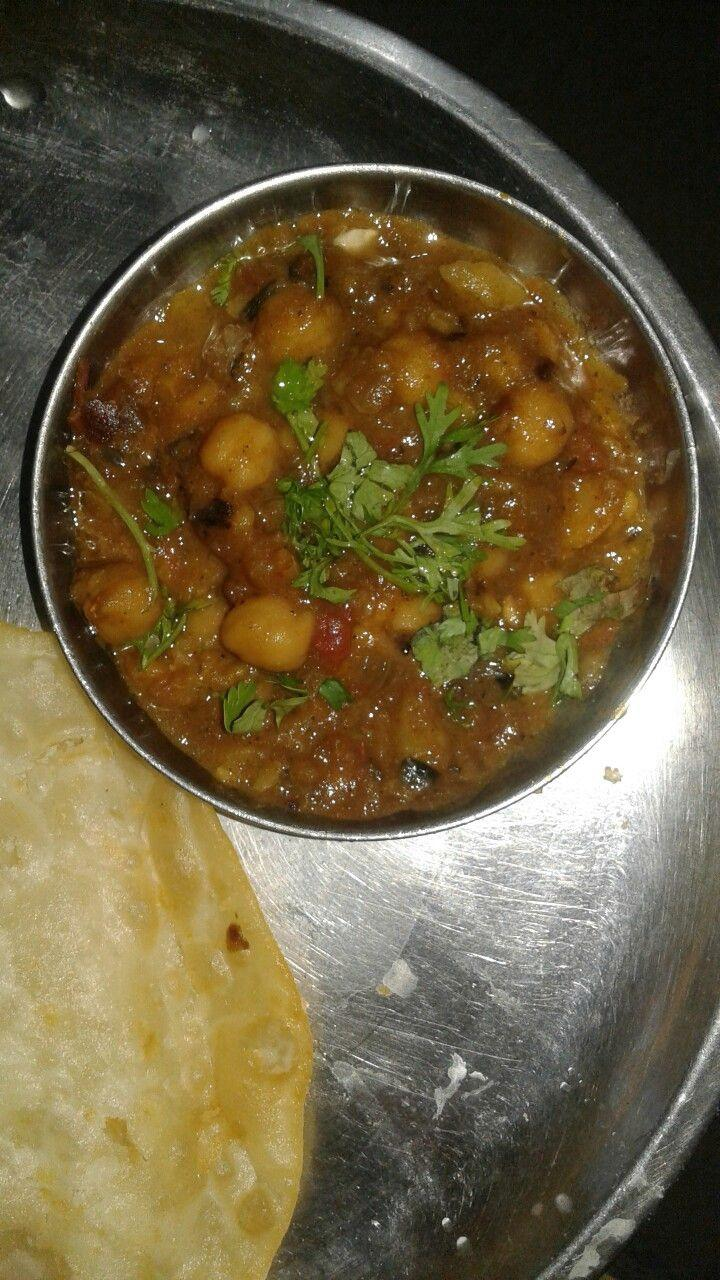chole: (63, 214, 632, 779)
puri: (0, 646, 300, 1279)
